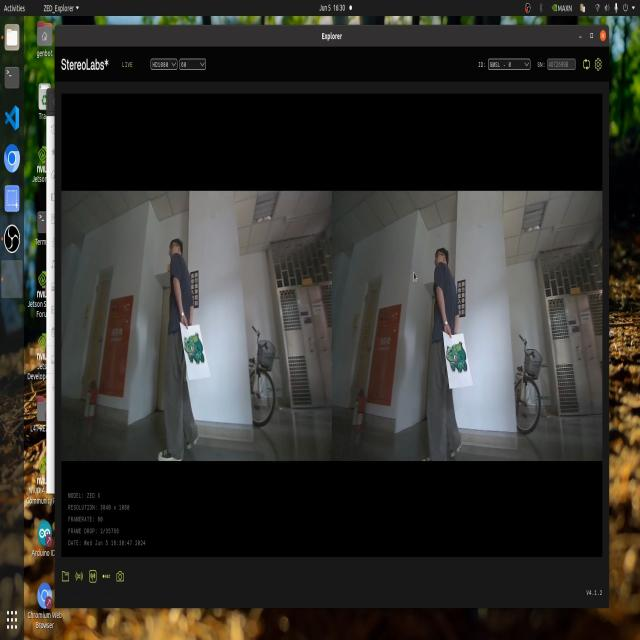green: (177, 325, 205, 369), (445, 341, 466, 374)
